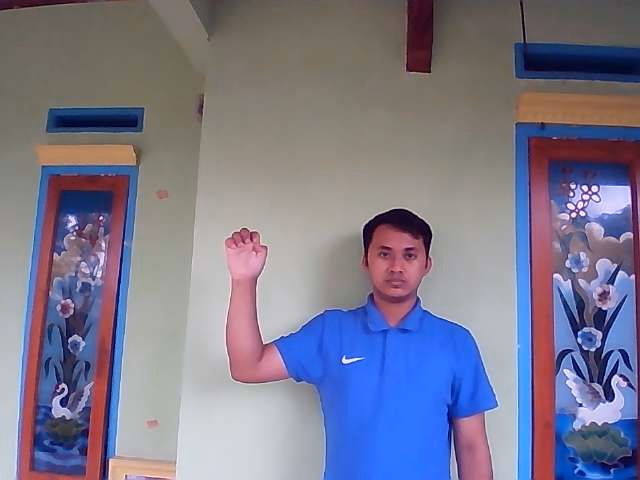E: (224, 227, 269, 279)
